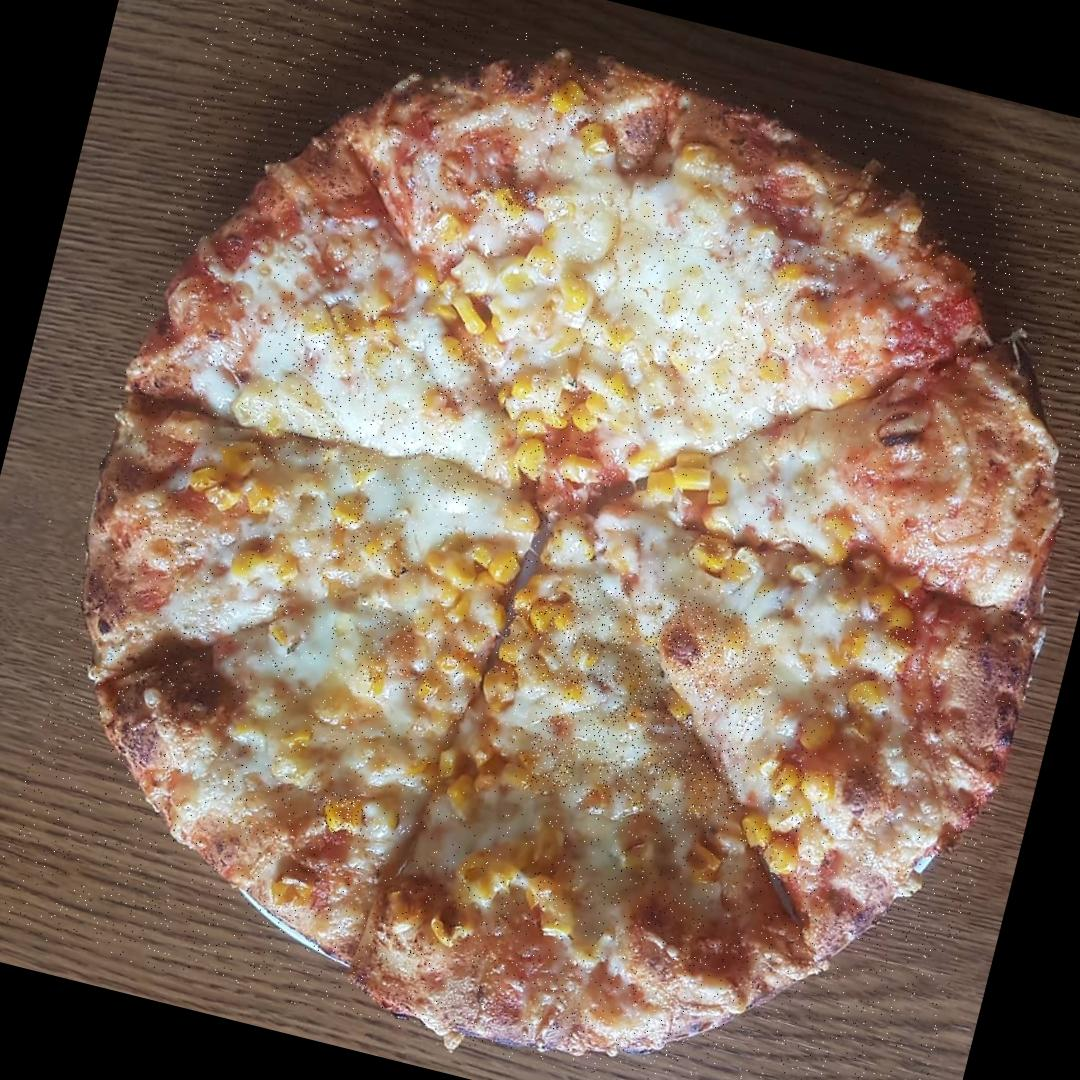Cheese: (522, 570, 785, 832), (568, 197, 831, 456), (250, 294, 513, 513)
Corn: (354, 600, 489, 712), (484, 368, 594, 488), (456, 854, 590, 938), (749, 762, 832, 890), (180, 442, 287, 535), (640, 444, 746, 535), (415, 532, 517, 624), (314, 489, 420, 577), (492, 589, 574, 686), (830, 616, 907, 716), (798, 489, 887, 575), (429, 268, 508, 356), (440, 740, 516, 826), (534, 66, 608, 140), (668, 133, 744, 199), (466, 175, 545, 237), (678, 529, 748, 584), (312, 788, 378, 842), (545, 274, 608, 329)
Pizza: (0, 0, 1080, 1080)
